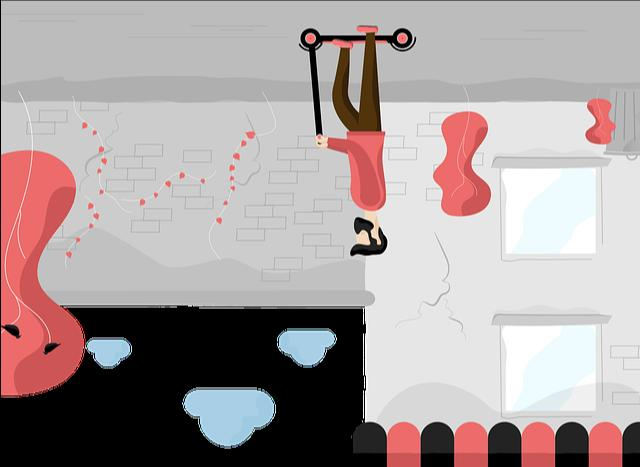Non_Gorille: (161, 0, 570, 327)
